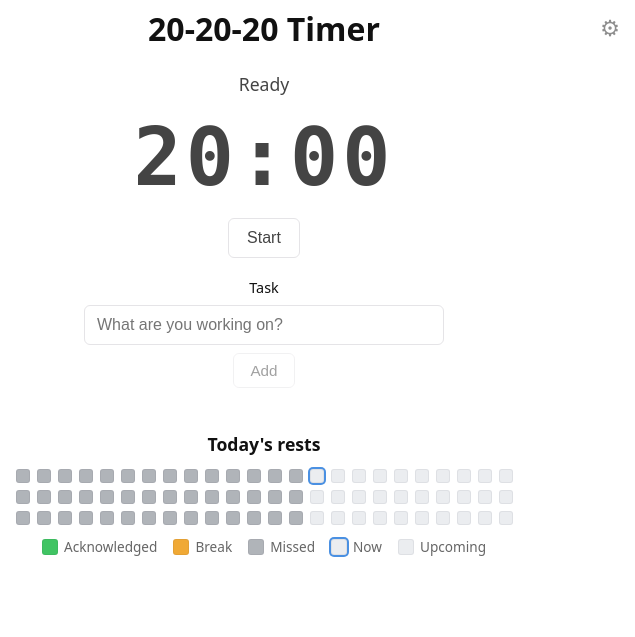
Test case: 20-20-20 Timer › shows a time-since label before the timestamp
This screenshot has width=635, height=637.
Step 1. Type "Draft" into the field with placeholder "What are you working on?" → point(264, 325), box [84, 305, 444, 345]
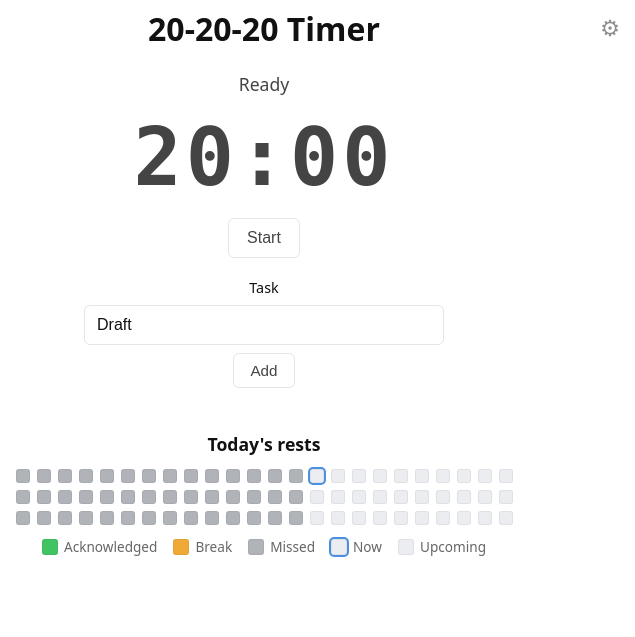
Step 2. Click the button "Add" → point(264, 370), box [234, 353, 294, 388]
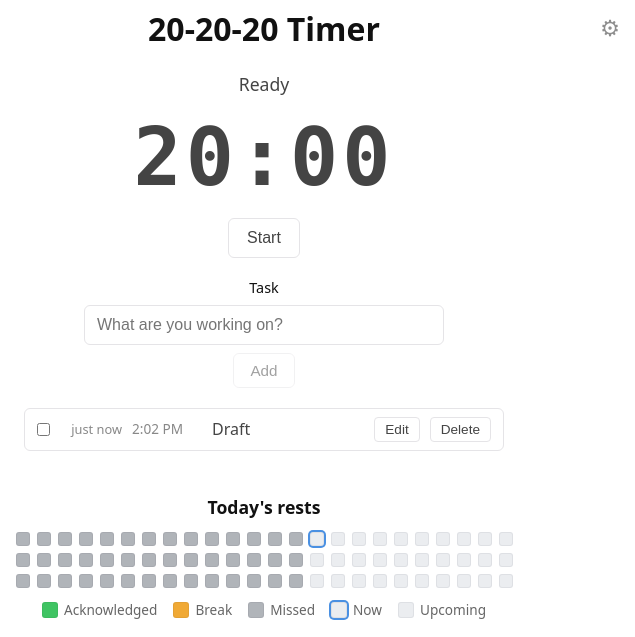
Expected: the list named "tasks" shows "just now", [71, 420, 122, 438]
